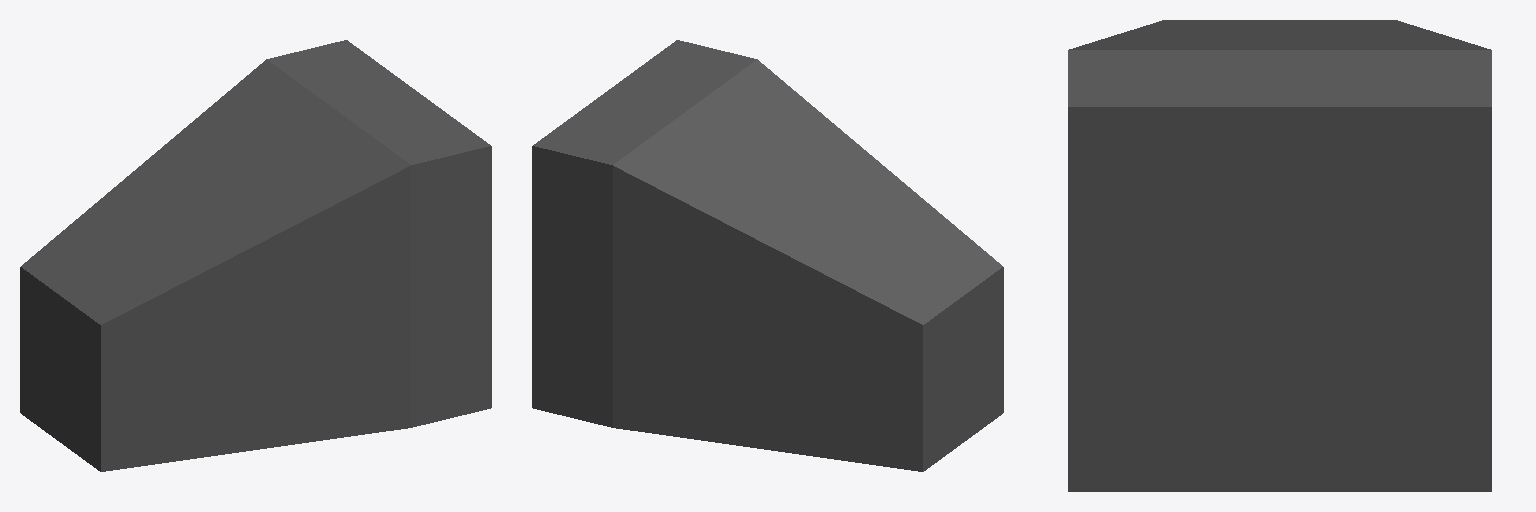
URDF robot description (turtlebot3_burger):
<?xml version="1.0" ?>
<robot name="turtlebot3_burger"
  xmlns:xacro="http://ros.org/wiki/xacro">
  <!-- <xacro:include filename="$(find turtlebot3_description)/urdf/common_properties.urdf"/> -->

  <!-- Init colour -->
  <material name="black">
      <color rgba="0.0 0.0 0.0 1.0"/>
  </material>

  <material name="dark">
    <color rgba="0.3 0.3 0.3 1.0"/>
  </material>

  <material name="light_black">
    <color rgba="0.4 0.4 0.4 1.0"/>
  </material>

  <material name="blue">
    <color rgba="0.0 0.0 0.8 1.0"/>
  </material>

  <material name="green">
    <color rgba="0.0 0.8 0.0 1.0"/>
  </material>

  <material name="grey">
    <color rgba="0.5 0.5 0.5 1.0"/>
  </material>

  <material name="orange">
    <color rgba="1.0 0.4235 0.0392 1.0"/>
  </material>

  <material name="brown">
    <color rgba="0.8706 0.8118 0.7647 1.0"/>
  </material>

  <material name="red">
    <color rgba="0.8 0.0 0.0 1.0"/>
  </material>

  <material name="white">
    <color rgba="1.0 1.0 1.0 1.0"/>
  </material>

  <link name="base_footprint"/>

  <joint name="base_joint" type="fixed">
    <parent link="base_footprint"/>
    <child link="base_link"/>
    <origin xyz="0.0 0.0 0.010" rpy="0 0 0"/>
  </joint>

  <link name="base_link">
    <visual>
      <origin xyz="-0.032 0 0.0" rpy="0 0 0"/>
      <geometry>
        <!-- 更改模型 -->
        <!-- <mesh filename="package://turtlebot3_gazebo/models/turtlebot3_common/meshes/burger_base.dae" scale="0.001 0.001 0.001"/> -->
        <mesh filename="package://turtlebot3_gazebo/models/turtlebot3_common/meshes/myburger.dae" scale="0.001 0.001 0.001"/> 
      </geometry>
      <material name="light_black"/>
    </visual>

    <collision>
      <origin xyz="-0.032 0 0.070" rpy="0 0 0"/>
      <geometry>
        <box size="0.140 0.140 0.143"/>
      </geometry>
    </collision>

    <inertial>
      <origin xyz="0 0 0" rpy="0 0 0"/>
      <mass value="8.2573504e-01"/>
      <inertia ixx="2.2124416e-03" ixy="-1.2294101e-05" ixz="3.4938785e-05" iyy="2.1193702e-03" iyz="-5.0120904e-06" izz="2.0064271e-03" />
    </inertial>
  </link>

  <joint name="wheel_left_joint" type="continuous">
    <parent link="base_link"/>
    <child link="wheel_left_link"/>
    <origin xyz="0.0 0.08 0.023" rpy="-1.57 0 0"/>
    <axis xyz="0 0 1"/>
  </joint>

  <link name="wheel_left_link">
    <visual>
      <origin xyz="0 0 0" rpy="1.57 0 0"/>
      <geometry>
        <mesh filename="package://turtlebot3_gazebo/models/turtlebot3_common/meshes/tire.dae" scale="0.001 0.001 0.001"/>
      </geometry>
      <material name="dark"/>
    </visual>

    <collision>
      <origin xyz="0 0 0" rpy="0 0 0"/>
      <geometry>
        <cylinder length="0.018" radius="0.033"/>
      </geometry>
    </collision>

    <inertial>
      <origin xyz="0 0 0" />
      <mass value="2.8498940e-02" />
      <inertia ixx="1.1175580e-05" ixy="-4.2369783e-11" ixz="-5.9381719e-09" iyy="1.1192413e-05" iyz="-1.4400107e-11" izz="2.0712558e-05" />
    </inertial>
  </link>

  <joint name="wheel_right_joint" type="continuous">
    <parent link="base_link"/>
    <child link="wheel_right_link"/>
    <origin xyz="0.0 -0.080 0.023" rpy="-1.57 0 0"/>
    <axis xyz="0 0 1"/>
  </joint>

  <link name="wheel_right_link">
    <visual>
      <origin xyz="0 0 0" rpy="1.57 0 0"/>
      <geometry>
        <mesh filename="package://turtlebot3_gazebo/models/turtlebot3_common/meshes/tire.dae" scale="0.001 0.001 0.001"/>
      </geometry>
      <material name="dark"/>
    </visual>

    <collision>
      <origin xyz="0 0 0" rpy="0 0 0"/>
      <geometry>
        <cylinder length="0.018" radius="0.033"/>
      </geometry>
    </collision>

    <inertial>
      <origin xyz="0 0 0" />
      <mass value="2.8498940e-02" />
      <inertia ixx="1.1175580e-05" ixy="-4.2369783e-11" ixz="-5.9381719e-09" iyy="1.1192413e-05" iyz="-1.4400107e-11" izz="2.0712558e-05" />
    </inertial>
  </link>

  <joint name="caster_back_joint" type="fixed">
    <parent link="base_link"/>
    <child link="caster_back_link"/>
    <origin xyz="-0.081 0 -0.004" rpy="-1.57 0 0"/>
  </joint>

  <link name="caster_back_link">
    <collision>
      <origin xyz="0 0.001 0" rpy="0 0 0"/>
      <geometry>
        <box size="0.030 0.009 0.020"/>
      </geometry>
    </collision>

    <inertial>
      <origin xyz="0 0 0" />
      <mass value="0.005" />
      <inertia ixx="0.001" ixy="0.0" ixz="0.0" iyy="0.001" iyz="0.0" izz="0.001" />
    </inertial>
  </link>

  <joint name="imu_joint" type="fixed">
    <parent link="base_link"/>
    <child link="imu_link"/>
    <origin xyz="-0.032 0 0.068" rpy="0 0 0"/>
  </joint>

  <link name="imu_link"/>

  <joint name="scan_joint" type="fixed">
    <parent link="base_link"/>
    <child link="base_scan"/>
    <origin xyz="-0.032 0 0.172" rpy="0 0 0"/>
  </joint>

  <link name="base_scan">
    <visual>
      <origin xyz="0 0 0.0" rpy="0 0 0"/>
      <geometry>
        <mesh filename="package://turtlebot3_gazebo/models/turtlebot3_common/meshes/lds.dae" scale="0.001 0.001 0.001"/>
      </geometry>
      <material name="dark"/>
    </visual>

    <collision>
      <origin xyz="0.015 0 -0.0065" rpy="0 0 0"/>
      <geometry>
        <cylinder length="0.0315" radius="0.055"/>
      </geometry>
    </collision>

    <inertial>
      <mass value="0.114" />
      <origin xyz="0 0 0" />
      <inertia ixx="0.001" ixy="0.0" ixz="0.0" iyy="0.001" iyz="0.0" izz="0.001" />
    </inertial>
  </link>

</robot>

--- Render facts (derived) ---
3 views of the same robot in one strip: view 1: azimuth 30°, elevation 25°; view 2: azimuth 150°, elevation 25°; view 3: azimuth 270°, elevation 25° (orthographic).
Robot: turtlebot3_burger — 7 links, 6 joints (2 continuous, 4 fixed); root link base_footprint; default pose: all joints at 0.
Links seen in each view (by area): view 1: base_link; view 2: base_link; view 3: base_link.
Boxes of the visible links, x1,y1,x2,y2 form: base_link: (20, 40, 491, 471); base_link: (532, 40, 1003, 471); base_link: (1068, 20, 1491, 491).
Size in the robot's own frame: 0.0002 by 0.0001 by 0.0001 metres.
1 mesh visuals loaded from 3 distinct referenced files (1 Collada DAE); not drawn: 3 (reference not matched to a file when rendering).